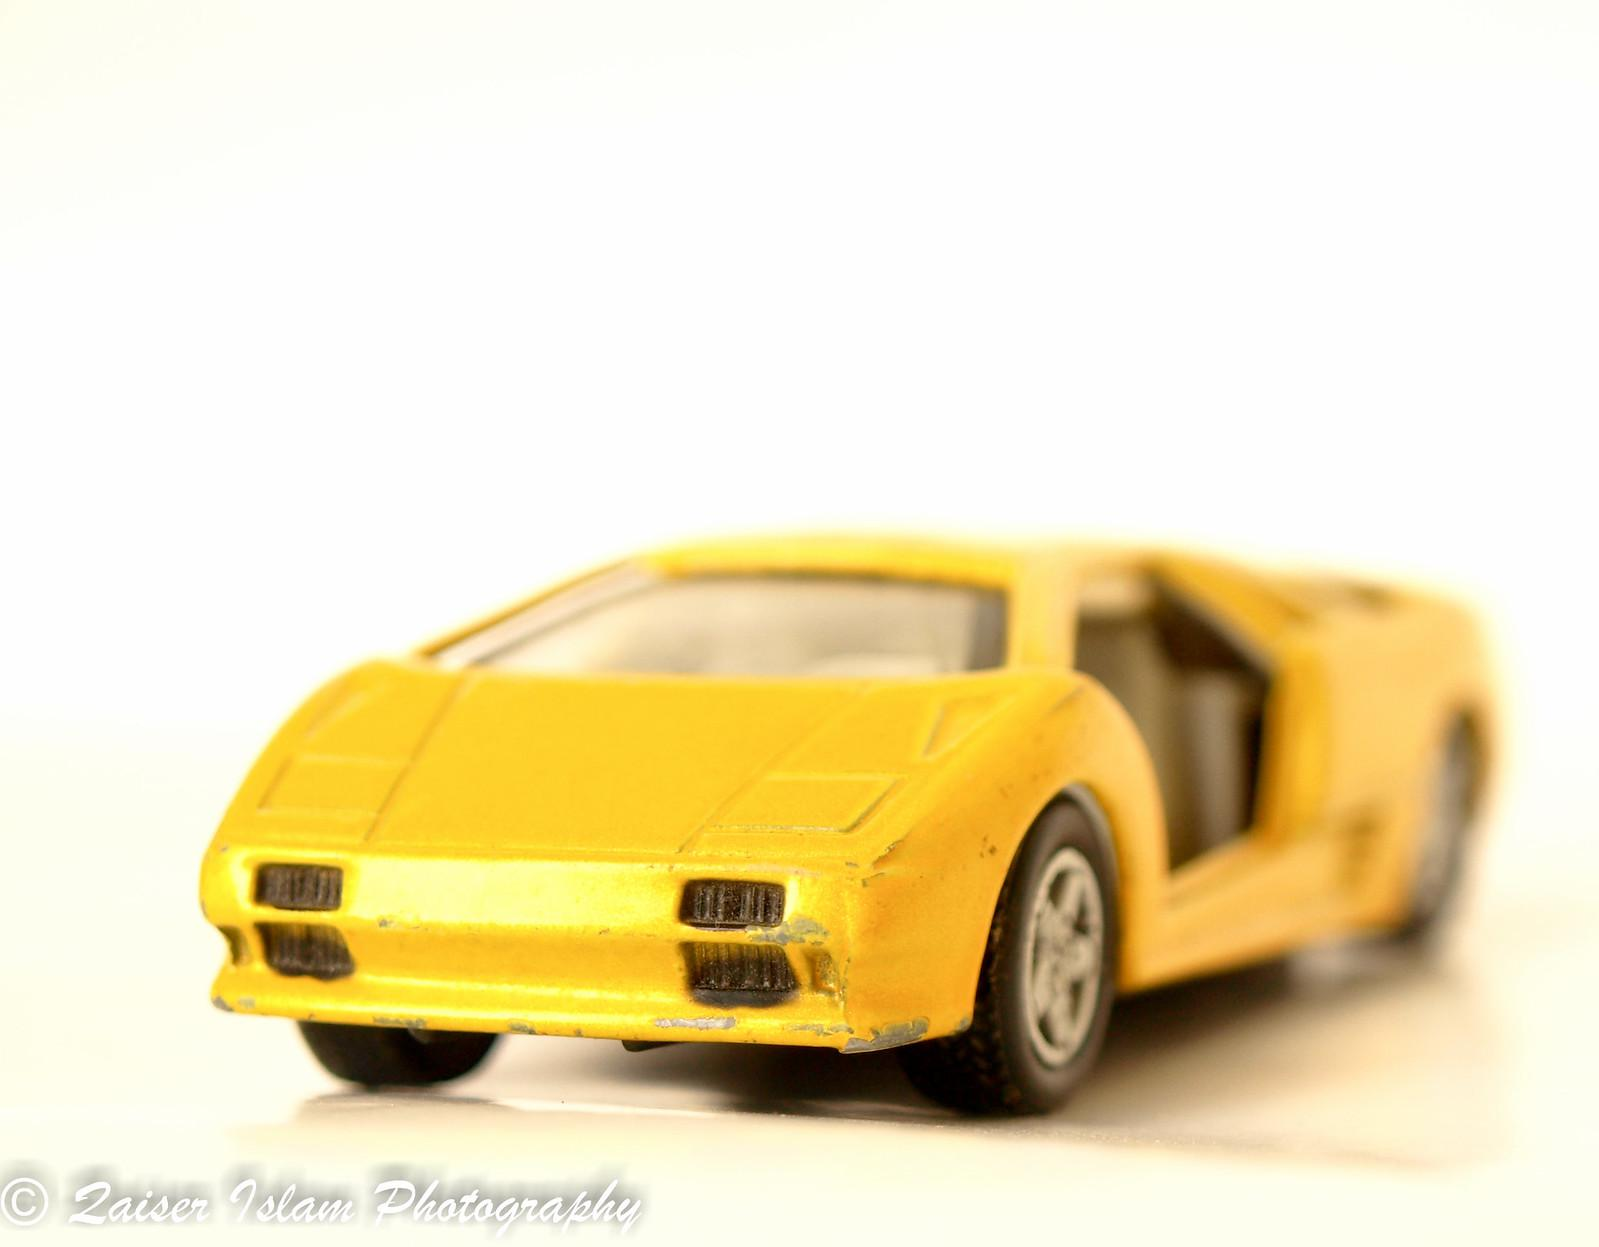front-bumper-dent: (180, 801, 950, 1059)
